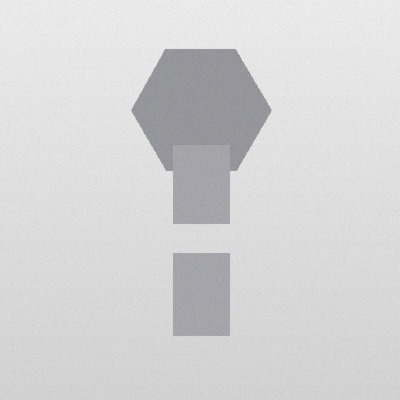broken: (161, 218, 241, 258)
